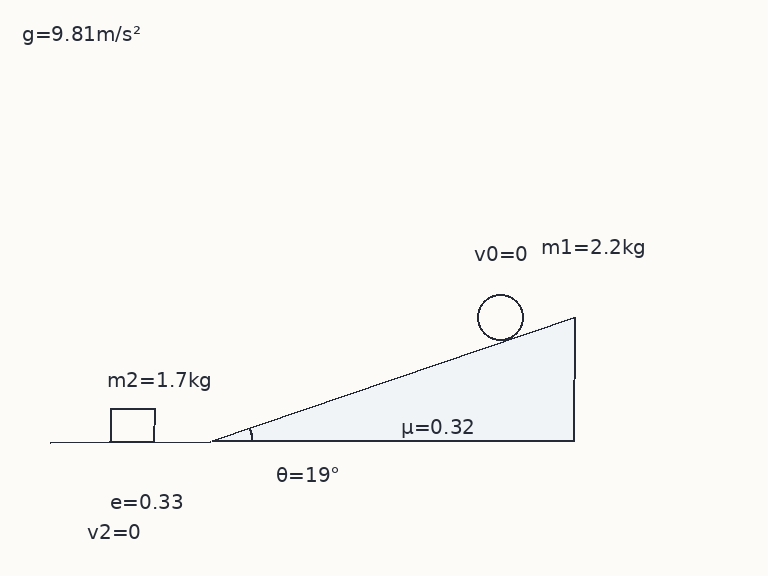ball: (475, 292, 525, 342)
block: (108, 407, 156, 443)
ramp: (210, 315, 575, 443)
